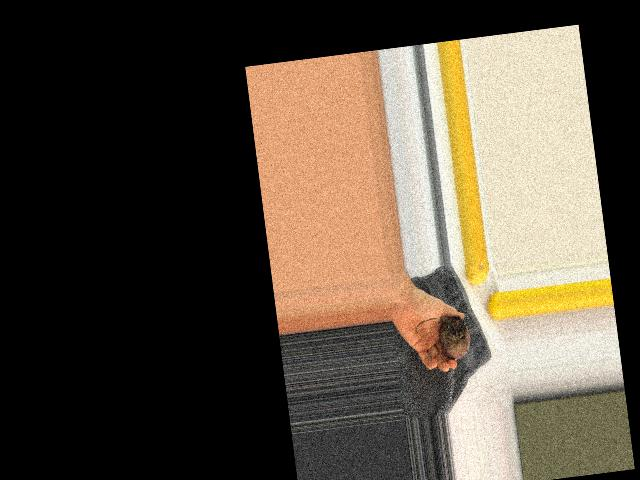beet: (414, 315, 472, 364)
